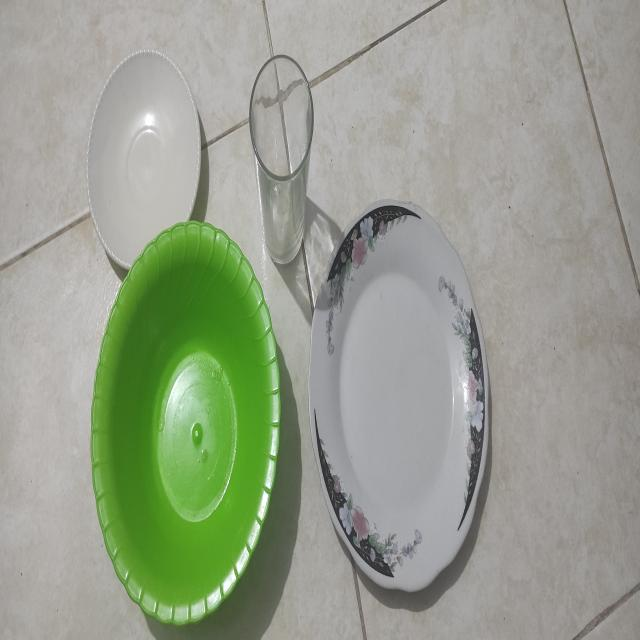non-organic waste: (83, 208, 289, 640), (302, 188, 508, 603), (77, 34, 213, 280)
